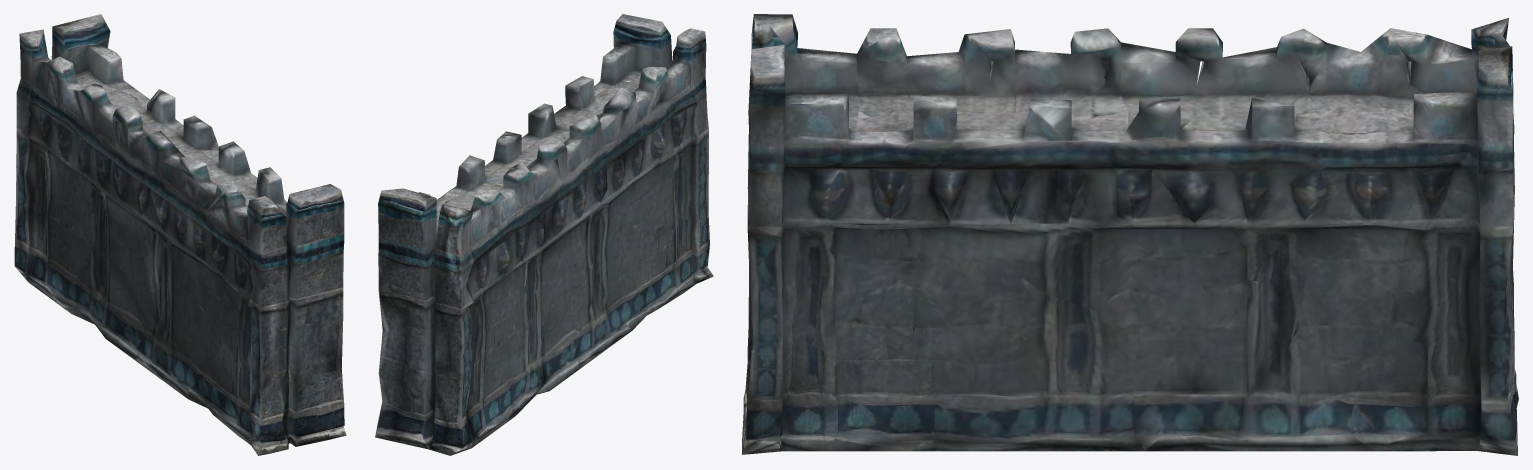
The model's file is castle_wall_stone.glb.
The picture shows the model from 3 angles, left to right: view 1: azimuth 30°, elevation 25°; view 2: azimuth 150°, elevation 25°; view 3: azimuth 270°, elevation 25°; orthographic projection. The views are drawn at different scales.
Visible parts, largest first — view 1: tripo_node_f19b39a2-0cf7-4830-ad2a-8578c0ea9ca5; view 2: tripo_node_f19b39a2-0cf7-4830-ad2a-8578c0ea9ca5; view 3: tripo_node_f19b39a2-0cf7-4830-ad2a-8578c0ea9ca5.
Part boxes in pixels (left/top/right/bottom): tripo_node_f19b39a2-0cf7-4830-ad2a-8578c0ea9ca5: left=14, top=14, right=346, bottom=455; tripo_node_f19b39a2-0cf7-4830-ad2a-8578c0ea9ca5: left=375, top=14, right=713, bottom=455; tripo_node_f19b39a2-0cf7-4830-ad2a-8578c0ea9ca5: left=742, top=14, right=1518, bottom=455.
Size of the model in its own units: 0.2 by 0.526 by 0.9753.
1 material, 1 textured.
